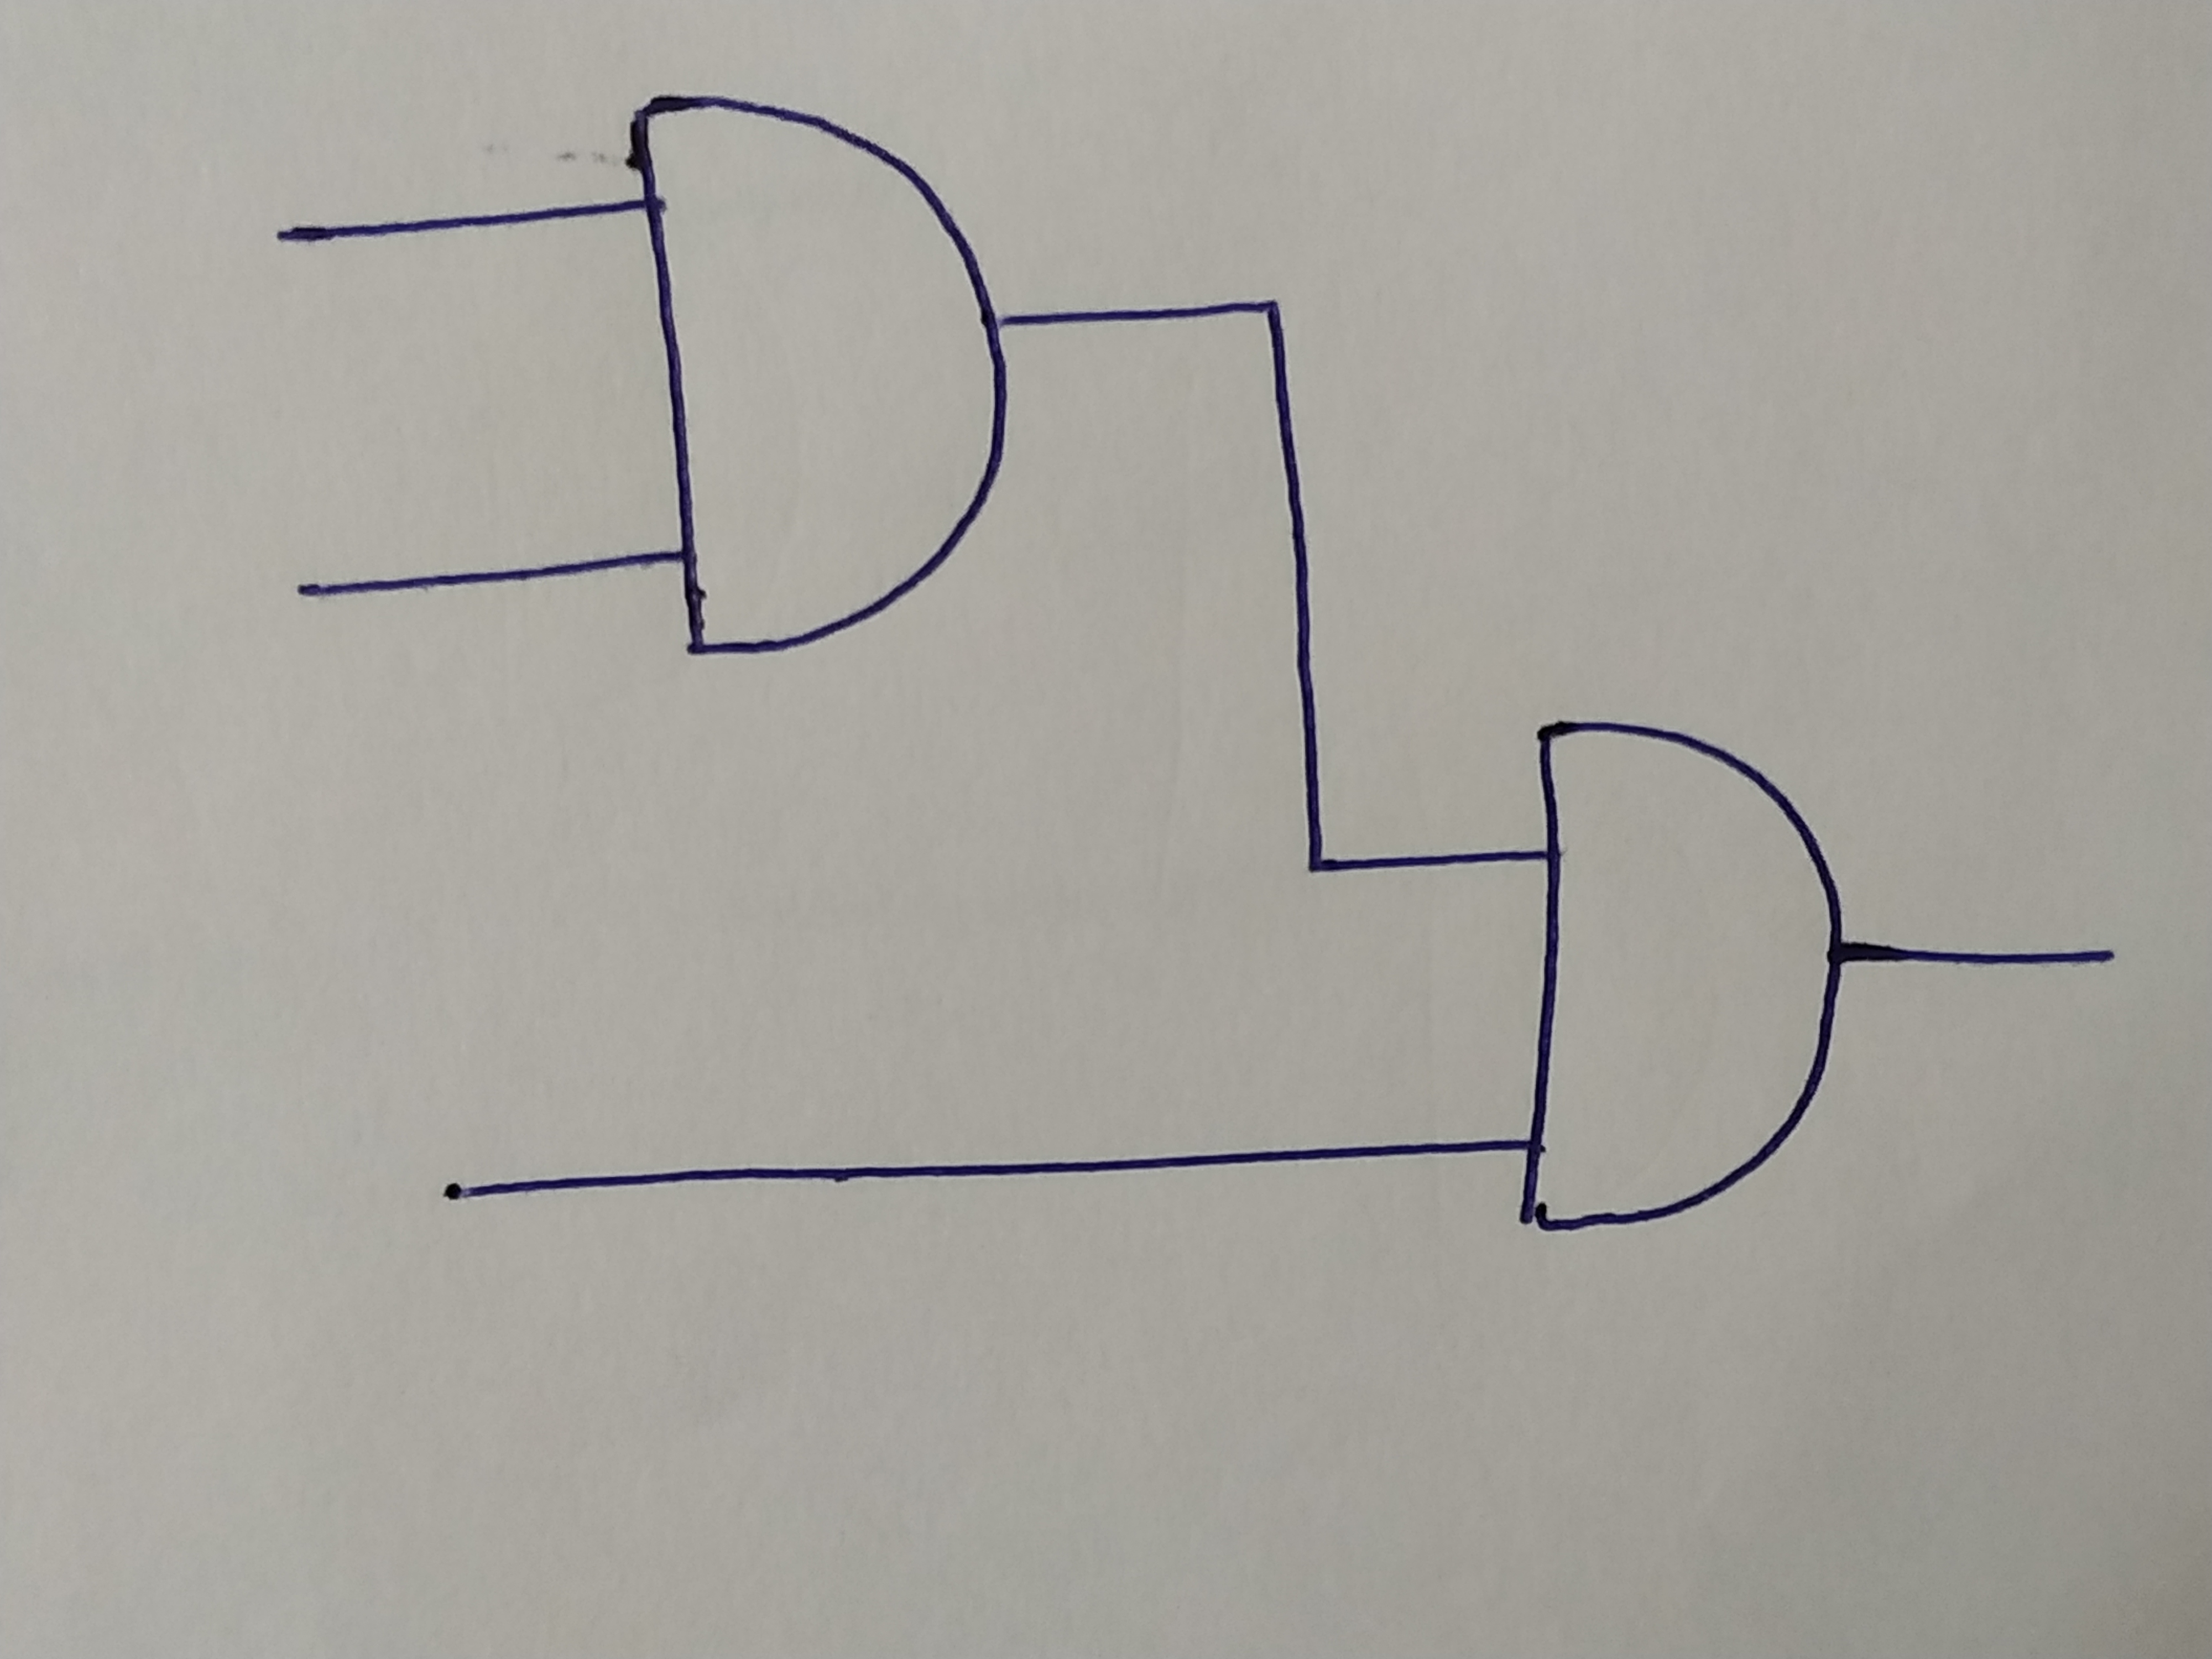and: (632, 96, 1010, 659), (1519, 718, 1832, 1232)
